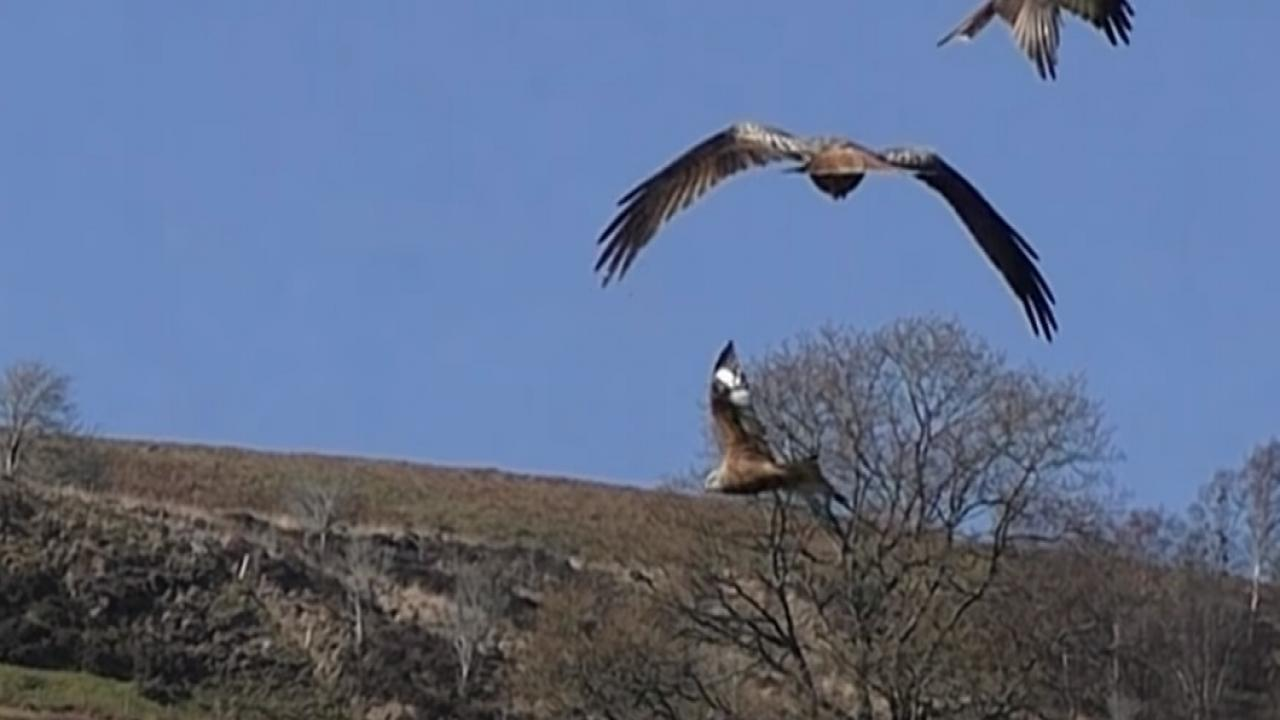Bird: (588, 115, 1066, 352), (694, 331, 838, 514), (924, 0, 1149, 92)
